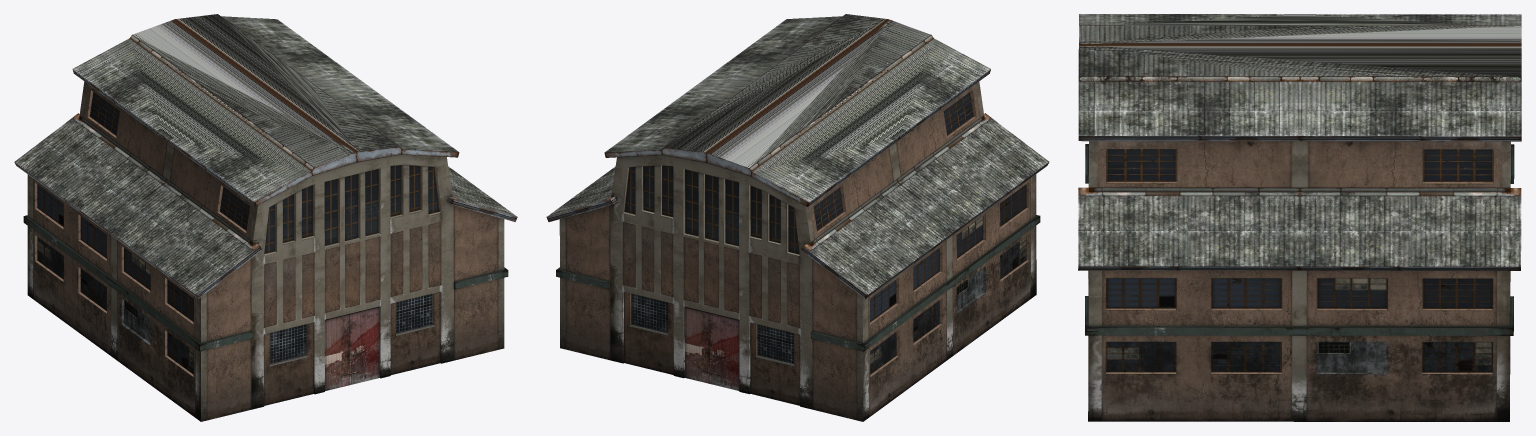
Rendered from warehouse_building.glb.
The picture shows the model from 3 angles, left to right: view 1: azimuth 30°, elevation 25°; view 2: azimuth 150°, elevation 25°; view 3: azimuth 270°, elevation 25°; orthographic projection. The views are drawn at different scales.
Visible parts, largest first — view 1: Object_2; view 2: Object_2; view 3: Object_2.
Boxes of the visible parts, <box> form: Object_2: <box>14,14,517,421</box>; Object_2: <box>546,14,1049,421</box>; Object_2: <box>1078,14,1521,421</box>.
Size of what is drawn, in the model's own units: 25.71 by 18.06 by 25.27.
1 material, 1 textured.
